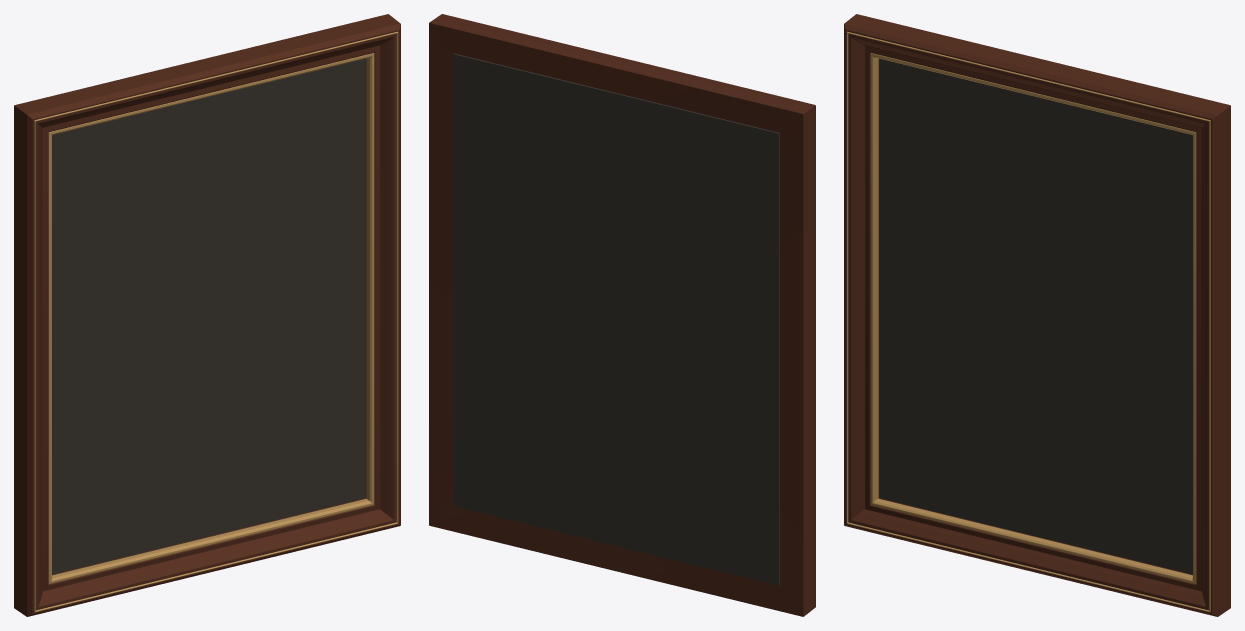
File: mahogany-frame-only.glb
3 renders of one model, left to right at view 1: azimuth 30°, elevation 25°; view 2: azimuth 150°, elevation 25°; view 3: azimuth 330°, elevation 25°, orthographic.
Parts seen in each view (by area): view 1: Rigid backing panel, Mahogany classical molding, Antique gold inner lip, Fine gold outer bead; view 2: Rigid backing panel, Mahogany classical molding; view 3: Rigid backing panel, Mahogany classical molding, Antique gold inner lip, Fine gold outer bead.
Boxes of the visible parts, left/top/right/bottom form: Rigid backing panel: left=52, top=58, right=365, bottom=574; Mahogany classical molding: left=14, top=14, right=400, bottom=616; Antique gold inner lip: left=48, top=53, right=374, bottom=584; Fine gold outer bead: left=34, top=31, right=398, bottom=612; Rigid backing panel: left=453, top=53, right=779, bottom=585; Mahogany classical molding: left=429, top=14, right=815, bottom=616; Rigid backing panel: left=879, top=58, right=1192, bottom=574; Mahogany classical molding: left=844, top=14, right=1230, bottom=616; Antique gold inner lip: left=870, top=53, right=1196, bottom=584; Fine gold outer bead: left=846, top=31, right=1210, bottom=612.
Size of the model in its own units: 1.06 by 1.36 by 0.0762.
